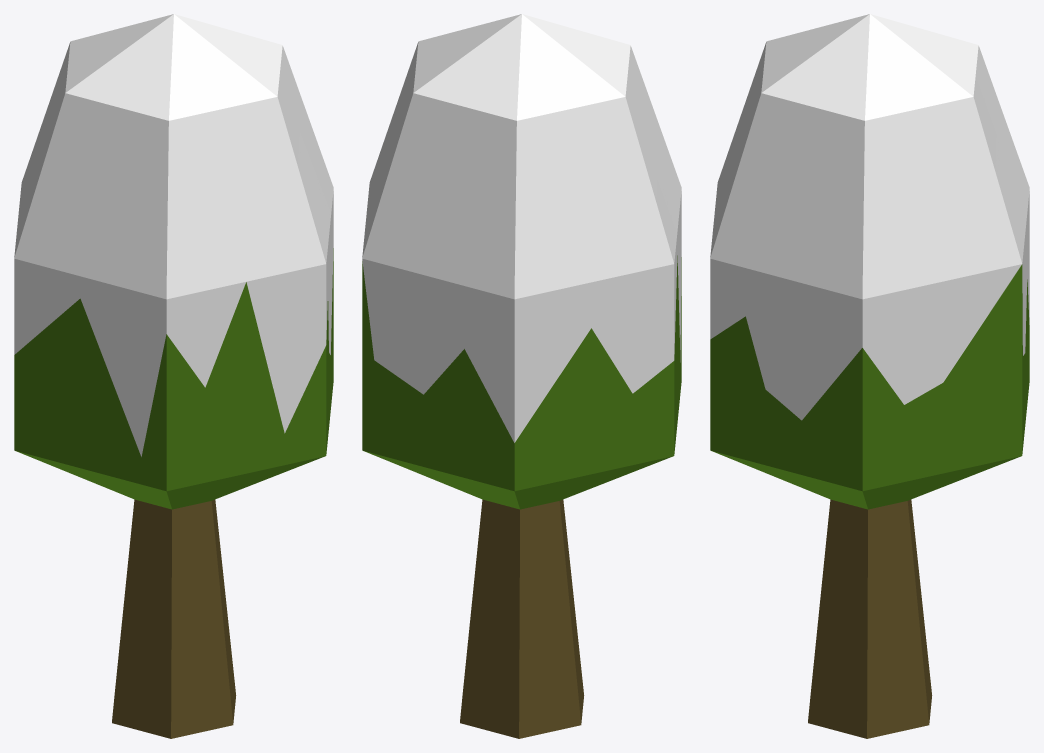
File: Vegetation_Tree_Common_Winter_Half_02.fbx
3 renders of one model, left to right at view 1: azimuth 30°, elevation 25°; view 2: azimuth 150°, elevation 25°; view 3: azimuth 270°, elevation 25°, orthographic.
Visible parts, largest first — view 1: Vegetation_Tree_Common_Winter_Half_02; view 2: Vegetation_Tree_Common_Winter_Half_02; view 3: Vegetation_Tree_Common_Winter_Half_02.
Boxes of the visible parts, box(x1,y1,x2,y2) form: Vegetation_Tree_Common_Winter_Half_02: box(14, 14, 333, 738); Vegetation_Tree_Common_Winter_Half_02: box(362, 14, 681, 738); Vegetation_Tree_Common_Winter_Half_02: box(710, 14, 1029, 738).
Size of the model in its own units: 1488 by 3167 by 1319.
